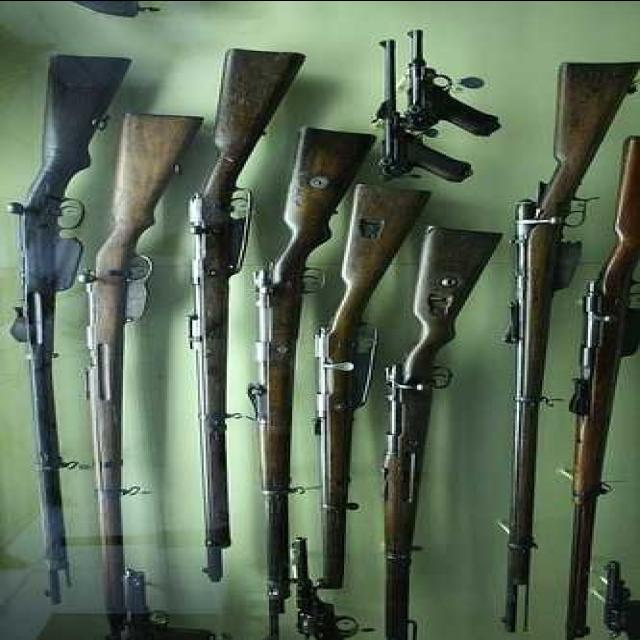heavyweapon: (495, 36, 620, 596), (1, 31, 118, 611), (247, 106, 374, 636), (197, 9, 305, 597), (307, 186, 453, 611), (95, 84, 203, 628), (376, 220, 514, 638)
